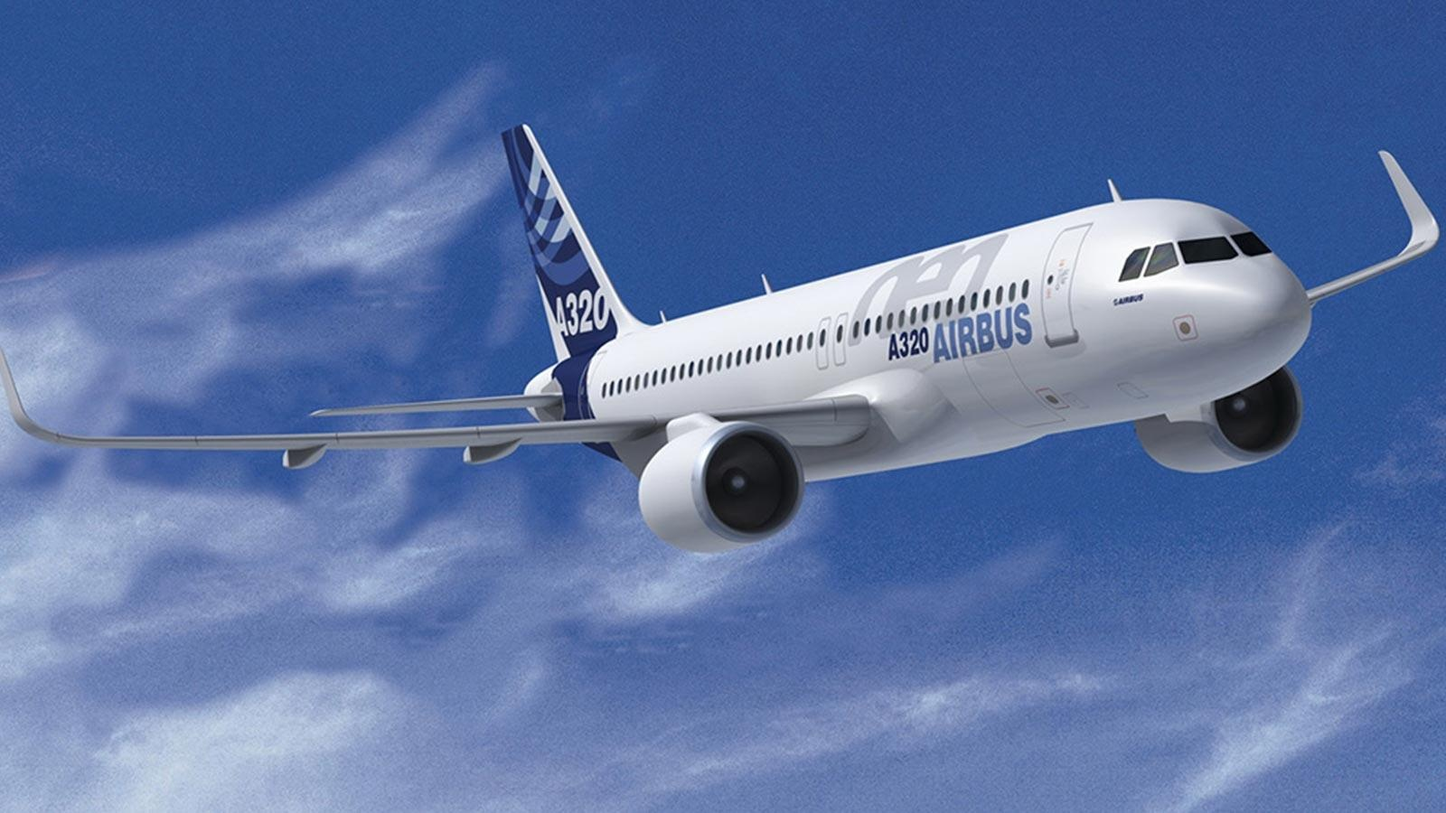aircraft: (16, 126, 1325, 556)
